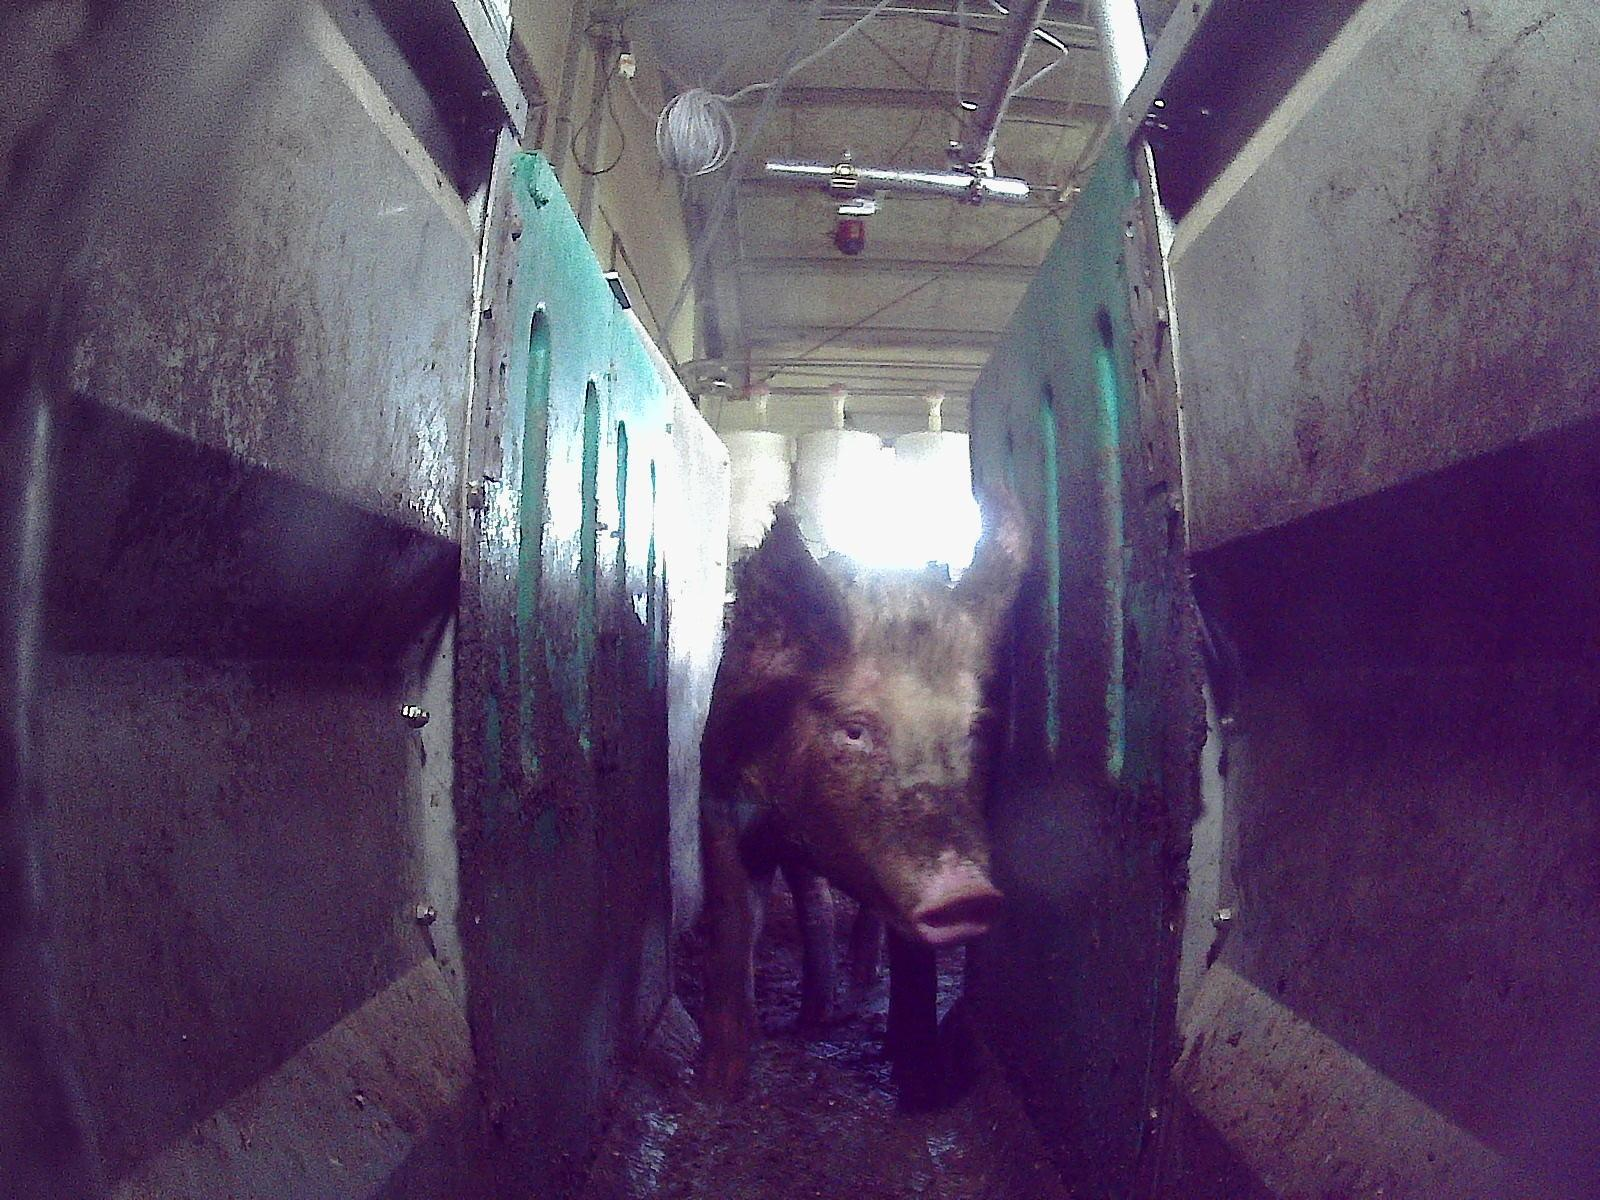Face: (802, 630, 1001, 946)
